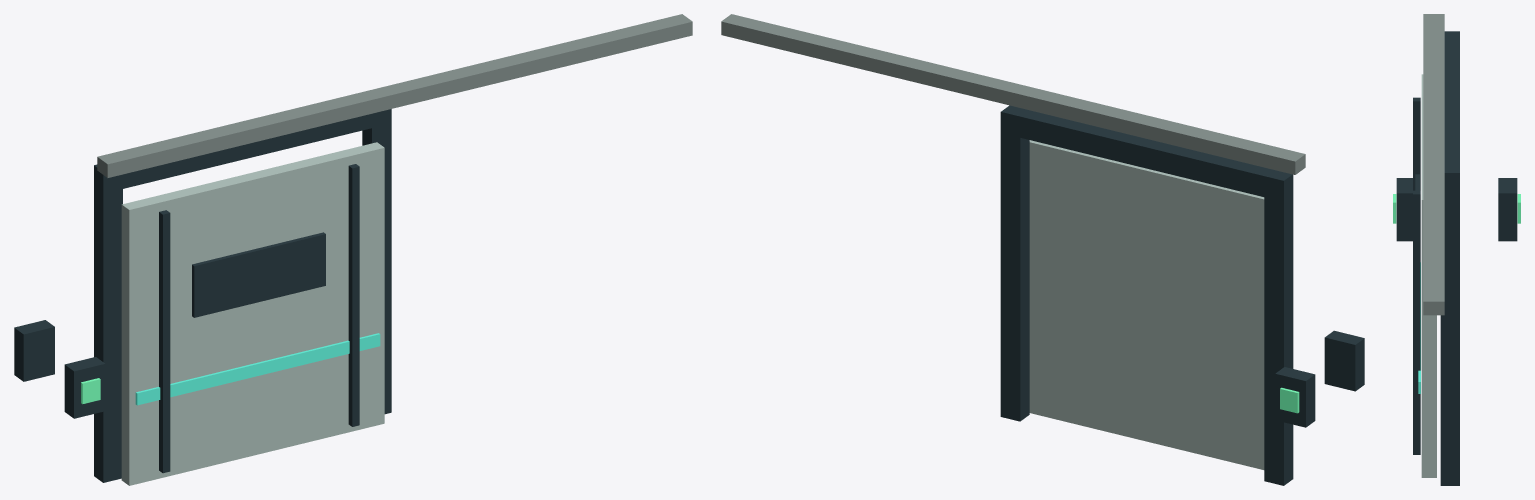
Rendered from FSA_ENV_Door_ResearchSlide.glb.
3 views of the same model, side by side, from view 1: azimuth 30°, elevation 25°; view 2: azimuth 150°, elevation 25°; view 3: azimuth 270°, elevation 25° (orthographic). The views are drawn at different scales.
Visible parts, largest first — view 1: Leaf, Track, Frame0, LeafObservation, Header, LeafStripe, LeafReinforce2, LeafReinforce3, Frame1, SwitchBack, SwitchFront; view 2: Leaf, Track, Frame1, Header, Frame0, SwitchFront, SwitchBack; view 3: Track, Frame1, Leaf, Header, LeafReinforce3, SwitchBack, SwitchFront, LeafReinforce2, LeafStripe.
Boxes of the visible parts, x1,y1,x2,y2 form: Leaf: (121,142,384,485); Track: (97,14,692,177); Frame0: (94,166,122,482); LeafObservation: (192,232,325,317); Header: (94,109,391,193); LeafStripe: (135,333,380,405); LeafReinforce2: (159,210,170,473); LeafReinforce3: (348,164,359,426); Frame1: (362,109,391,414); SwitchBack: (14,320,54,381); SwitchFront: (64,357,105,418); Leaf: (1029,140,1264,469); Track: (721,14,1305,174); Frame1: (1000,112,1029,421); Header: (1001,105,1293,201); Frame0: (1264,175,1293,485); SwitchFront: (1324,330,1364,391); SwitchBack: (1275,367,1315,427); Track: (1423,14,1444,315); Frame1: (1440,173,1459,485); Leaf: (1421,74,1436,477); Header: (1444,31,1459,194); LeafReinforce3: (1413,190,1420,454); SwitchBack: (1498,178,1517,241); SwitchFront: (1396,178,1412,241); LeafReinforce2: (1413,97,1420,190); LeafStripe: (1418,262,1420,393).
Size of the model in its own units: 7.67 by 3.78 by 1.34.
